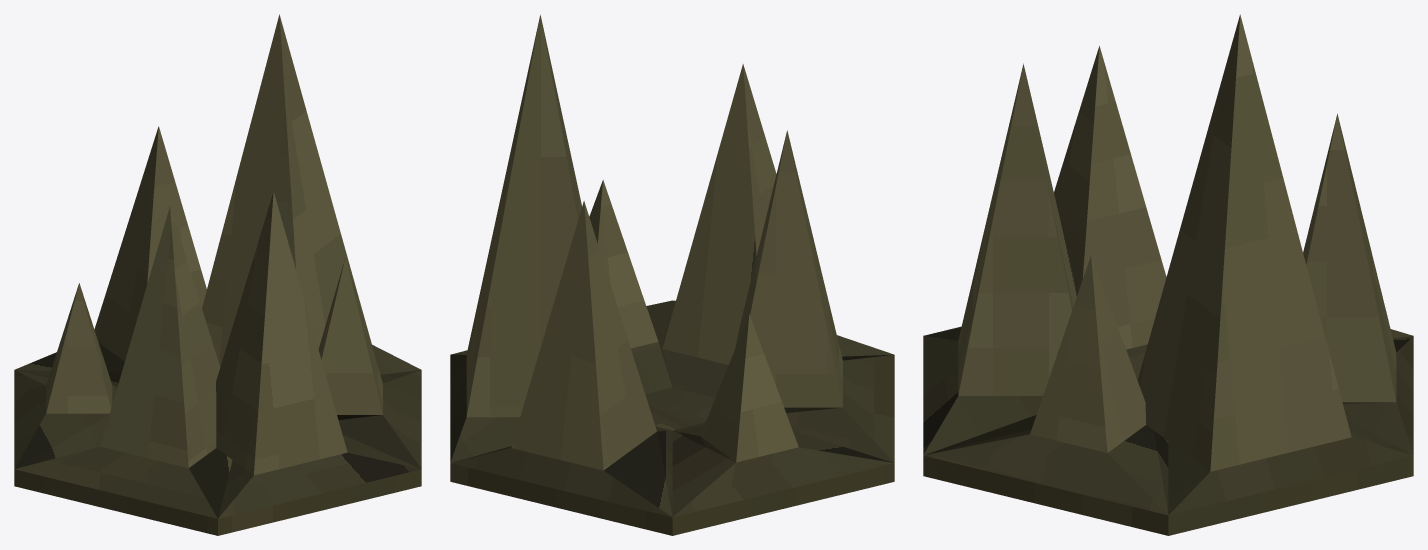
The model's file is marble_spikes.glb.
3 views of the same model, side by side, from view 1: azimuth 30°, elevation 25°; view 2: azimuth 150°, elevation 25°; view 3: azimuth 270°, elevation 25° (orthographic). The views are drawn at different scales.
Parts seen in each view (by area): view 1: MarbleSpikes; view 2: MarbleSpikes; view 3: MarbleSpikes.
Part boxes in pixels (bbox=[...]): MarbleSpikes: bbox=[14, 14, 421, 535]; MarbleSpikes: bbox=[450, 14, 894, 535]; MarbleSpikes: bbox=[923, 14, 1413, 535].
Size of what is drawn, in the model's own units: 2.5 by 2.22 by 2.17.
1 material, 1 textured.
